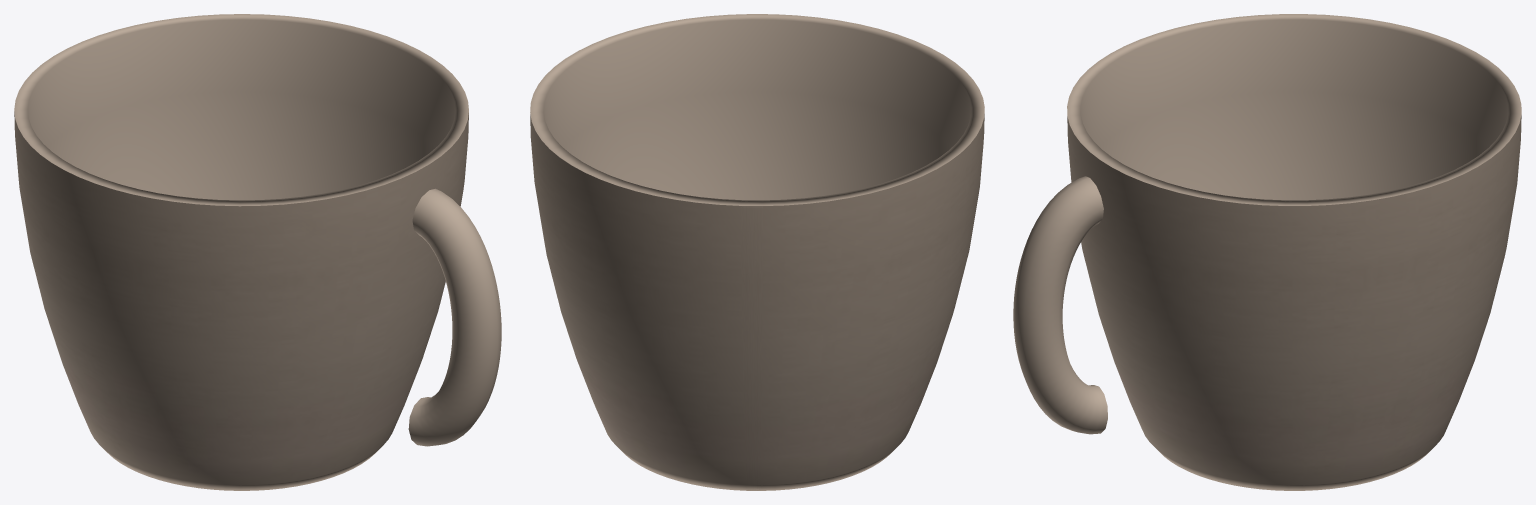
File: CER-07.glb
The picture shows the model from 3 angles, left to right: view 1: azimuth 30°, elevation 25°; view 2: azimuth 150°, elevation 25°; view 3: azimuth 270°, elevation 25°; orthographic projection.
Size of the model in its own units: 0.0949 by 0.0737 by 0.1061.
3 materials, 1 textured.
